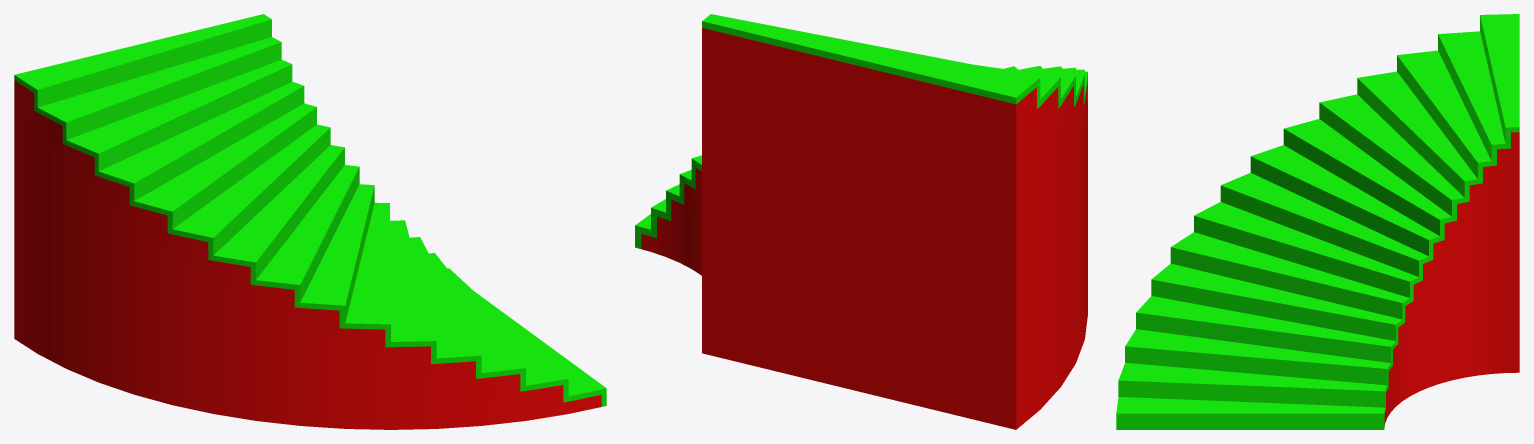
The model's file is Dungeon_Stair007.fbx.
3 views of the same model, side by side, from view 1: azimuth 30°, elevation 25°; view 2: azimuth 150°, elevation 25°; view 3: azimuth 270°, elevation 25° (orthographic). The views are drawn at different scales.
Visible parts, largest first — view 1: StairLeft_Rise; view 2: StairLeft_Rise; view 3: StairLeft_Rise.
Part boxes in pixels (bbox=[...]): StairLeft_Rise: bbox=[14, 14, 606, 429]; StairLeft_Rise: bbox=[635, 14, 1087, 429]; StairLeft_Rise: bbox=[1116, 14, 1519, 429].
Bounding box in the file's own units: 372 × 250 × 372.
